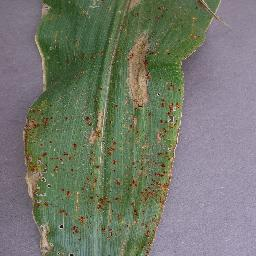Corn_Blight: (160, 0, 224, 83), (157, 86, 186, 237), (127, 137, 157, 255), (120, 29, 157, 110), (93, 183, 126, 256), (18, 139, 46, 195), (26, 198, 53, 254), (31, 30, 49, 91), (108, 113, 155, 135), (50, 140, 78, 176), (21, 110, 55, 139), (55, 210, 85, 238), (64, 0, 105, 19), (116, 0, 157, 18), (84, 149, 100, 195), (105, 136, 121, 179), (70, 53, 106, 71), (55, 186, 84, 207), (82, 111, 98, 141), (91, 94, 118, 110), (34, 0, 55, 16), (60, 248, 82, 256), (70, 38, 83, 44)
